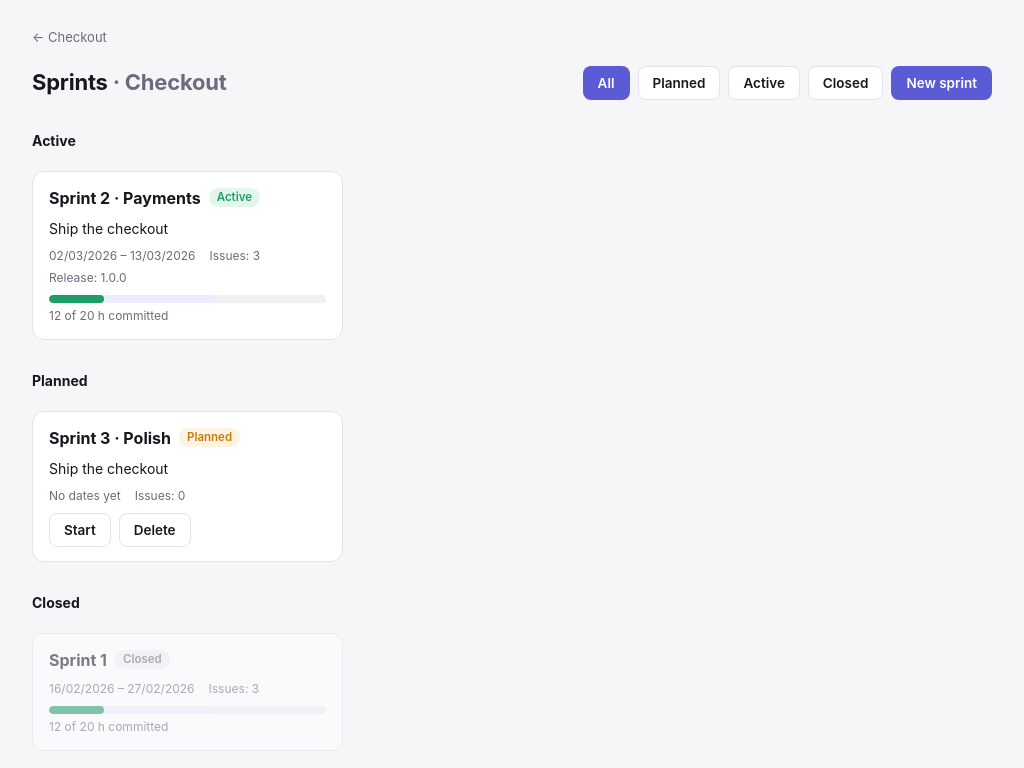
it: the sprint list: a new sprint › lists the releases of every live application and the members who can work
The width and height of the screenshot is (1024, 768).
Click the button "New sprint".
click(942, 82)  # box [891,66,992,100]
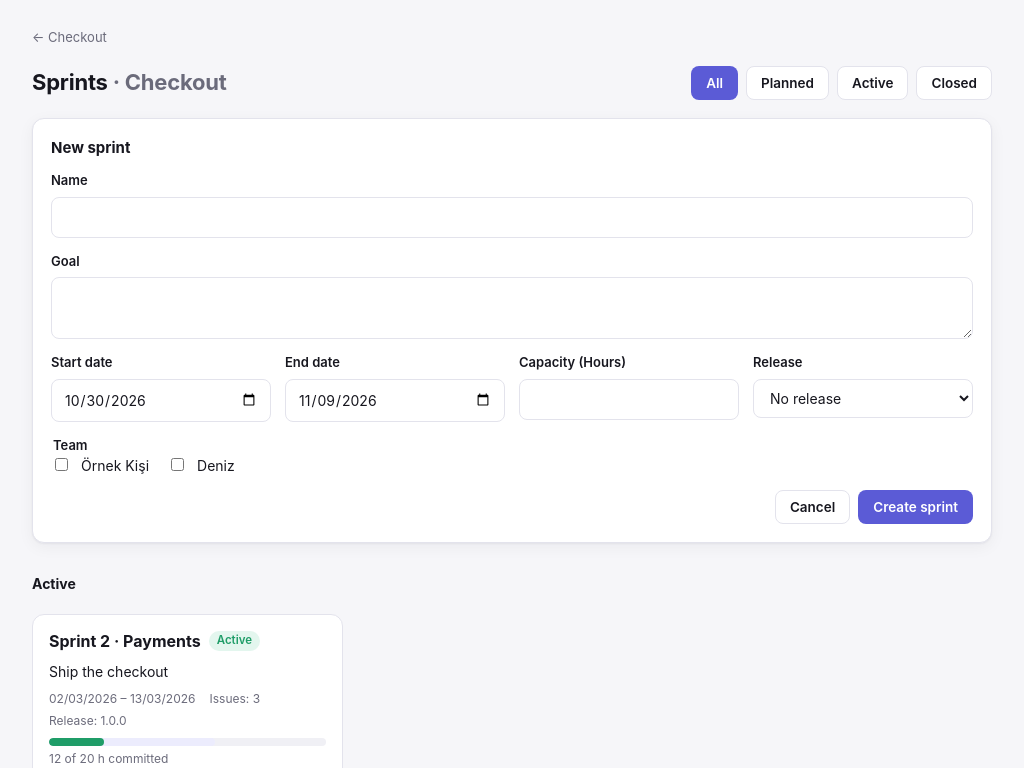
Expected: the checkbox labelled "Örnek Kişi" is shown, [55,458,68,471]
Expected: the checkbox labelled "Deniz" is shown, [171,458,184,471]
